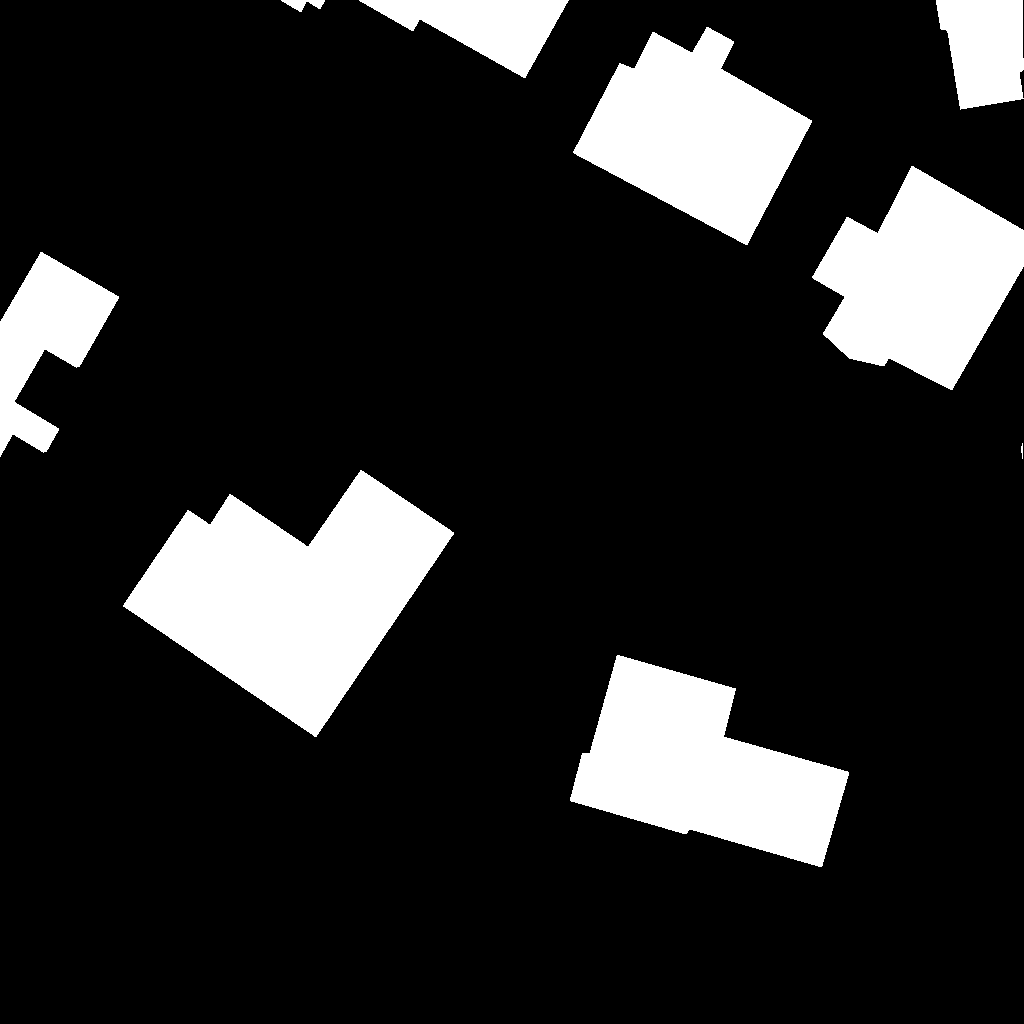building: (123, 470, 455, 738), (570, 655, 850, 868), (573, 27, 813, 246), (812, 166, 1024, 391), (0, 252, 120, 458), (280, 0, 570, 79), (936, 0, 1024, 110), (1021, 442, 1024, 463)
